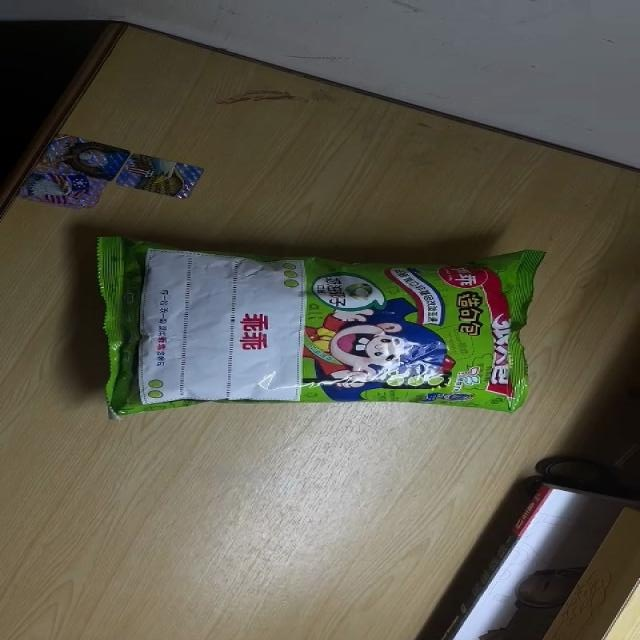Good-Luck: (96, 235, 548, 421)
